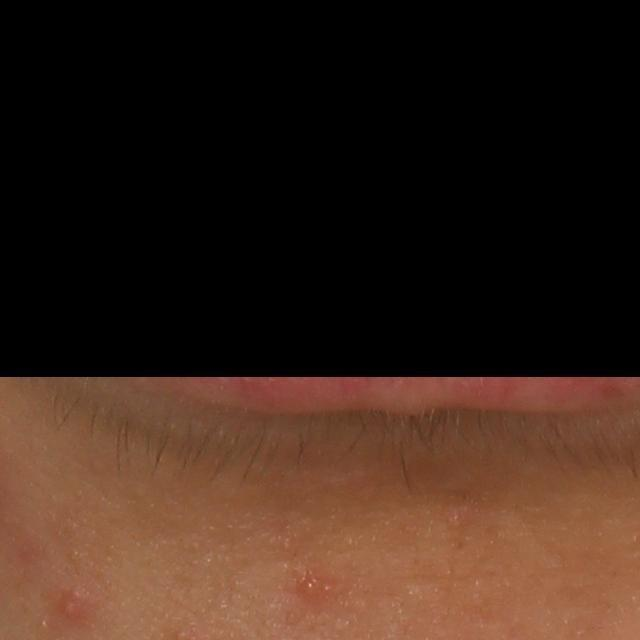papule: (292, 566, 332, 606), (57, 587, 88, 620)
